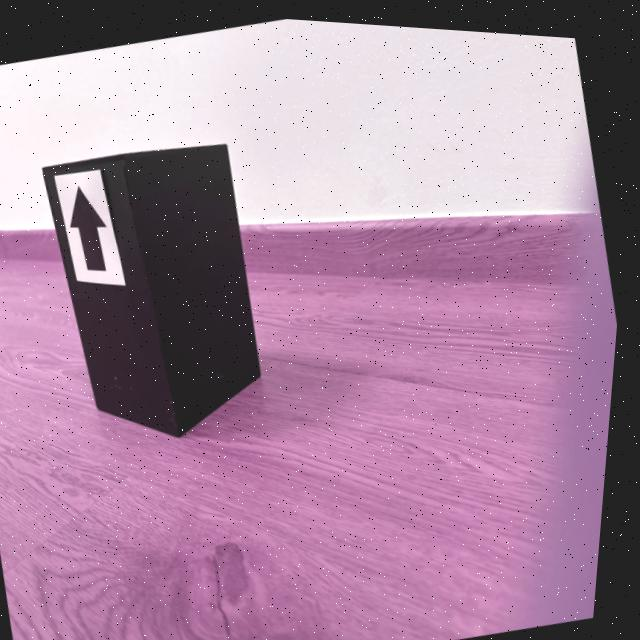UP: (74, 186, 110, 269)
